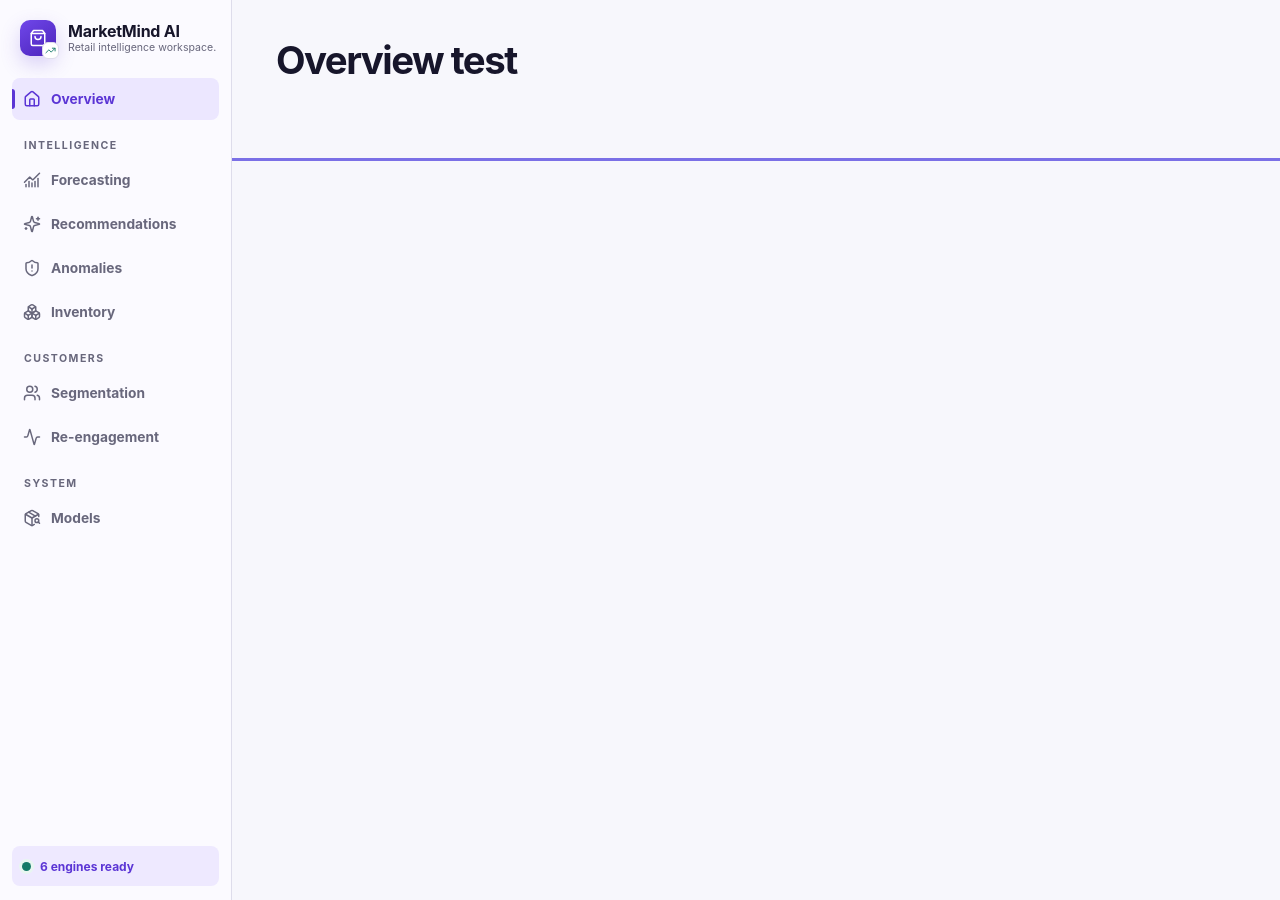
Scenario: supports route navigation and exposes the active destination
Click the link "Forecasting": (77, 180) x1=23 y1=171 x2=130 y2=189
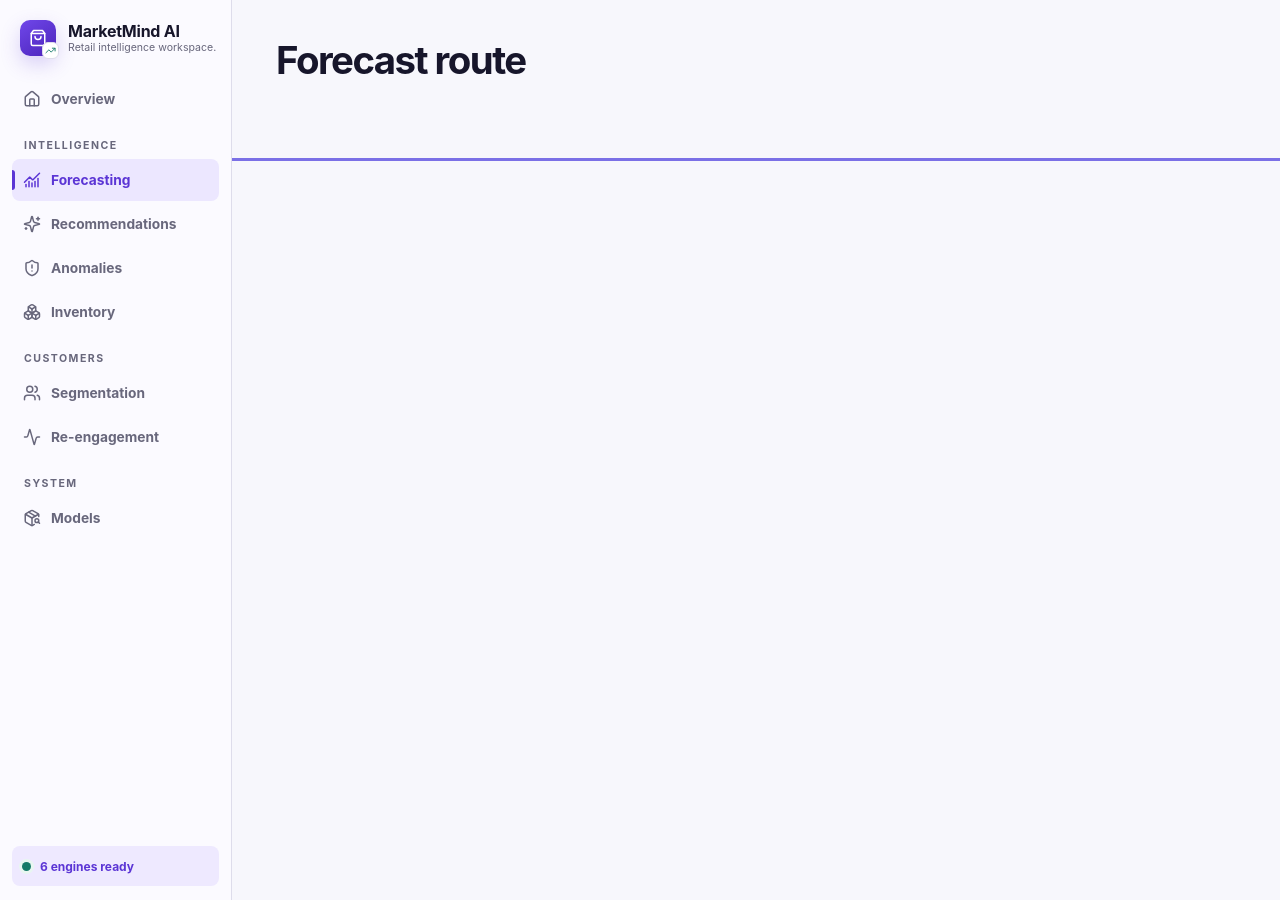
expect the heading "Forecast route" is shown: met, box x1=276 y1=37 x2=526 y2=83
